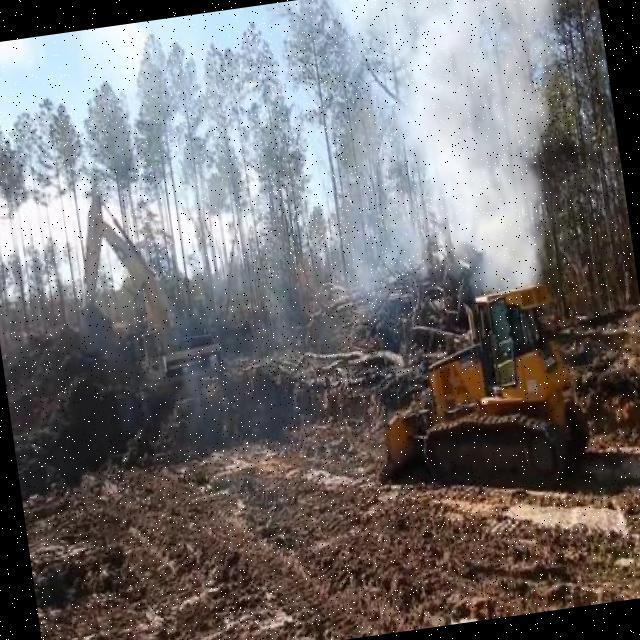Excavator: (64, 178, 226, 386)
